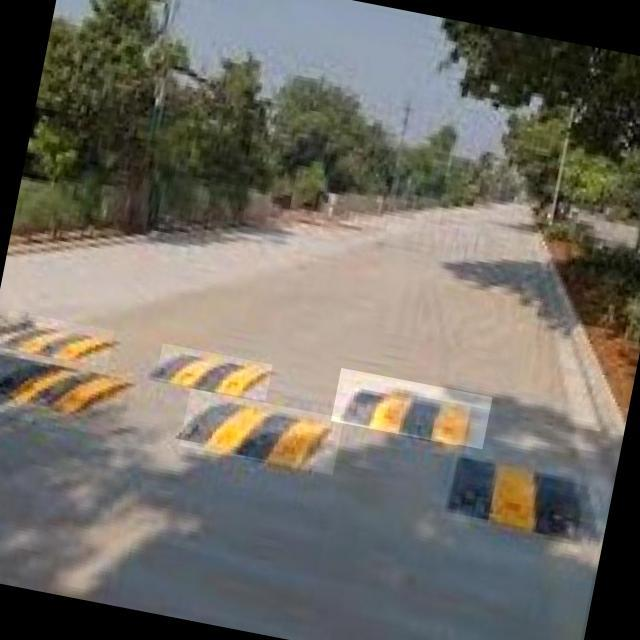speedbreaker: (442, 440, 584, 543), (180, 388, 343, 476), (330, 368, 492, 450), (0, 353, 132, 442), (156, 344, 272, 402), (2, 310, 114, 368)
